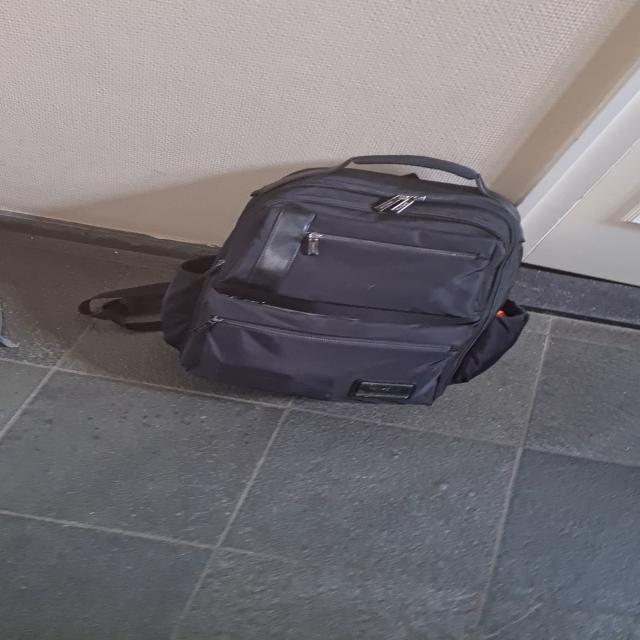backpack: (159, 147, 544, 413)
